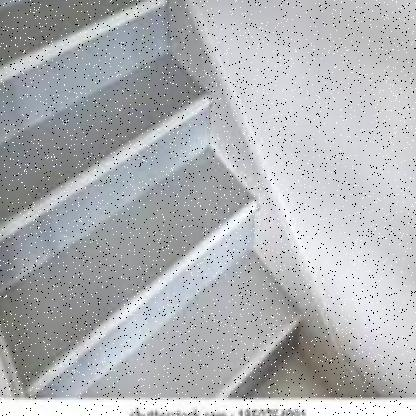stair_up: (14, 51, 276, 344)
